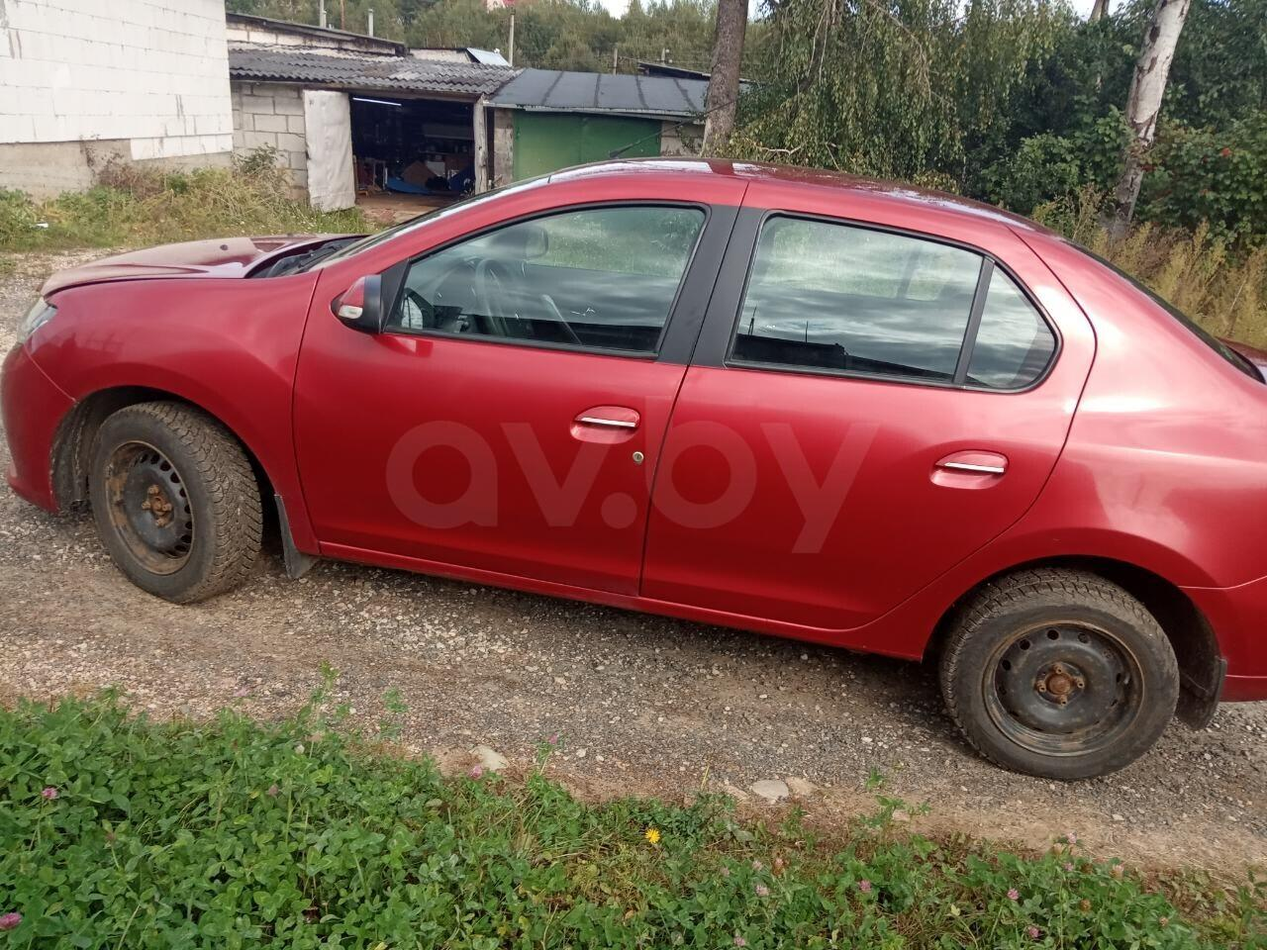Logan_2013-2018: (0, 152, 1267, 793)
